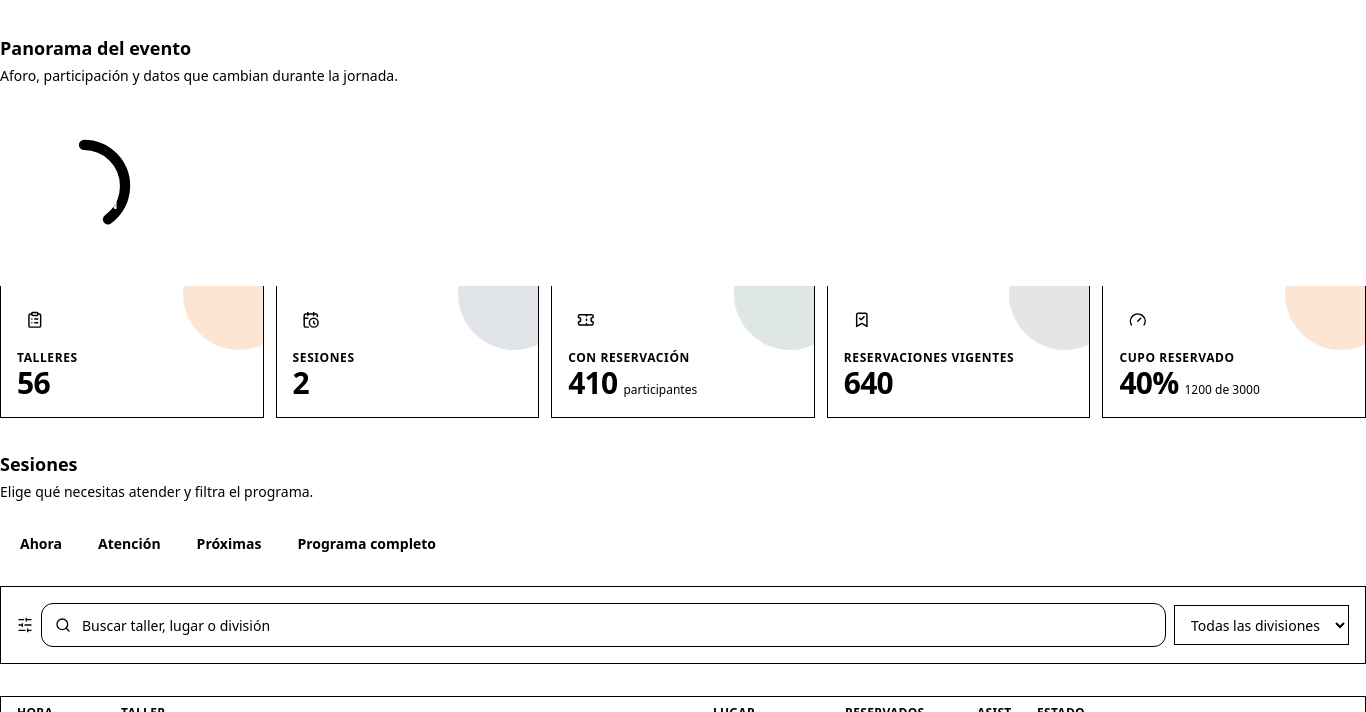
Scenario: search finds by workshop name, by location and by division, instantly and without accents
Type "molecular" into the search field labelled "Buscar taller, lugar o división". click: (604, 625)
box: [41, 603, 1166, 647]
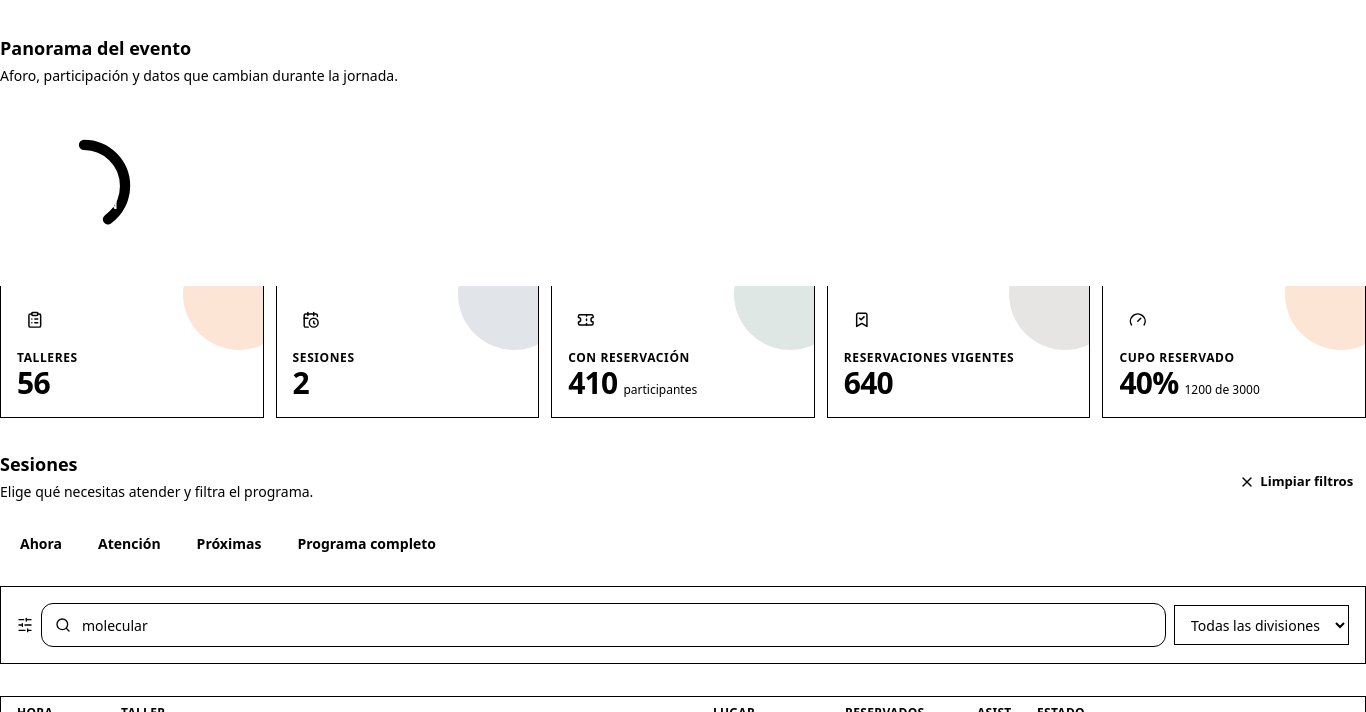
Replace the text in the search field named "Buscar taller, lugar o división" with "hub". click: (604, 625)
box: [41, 603, 1166, 647]
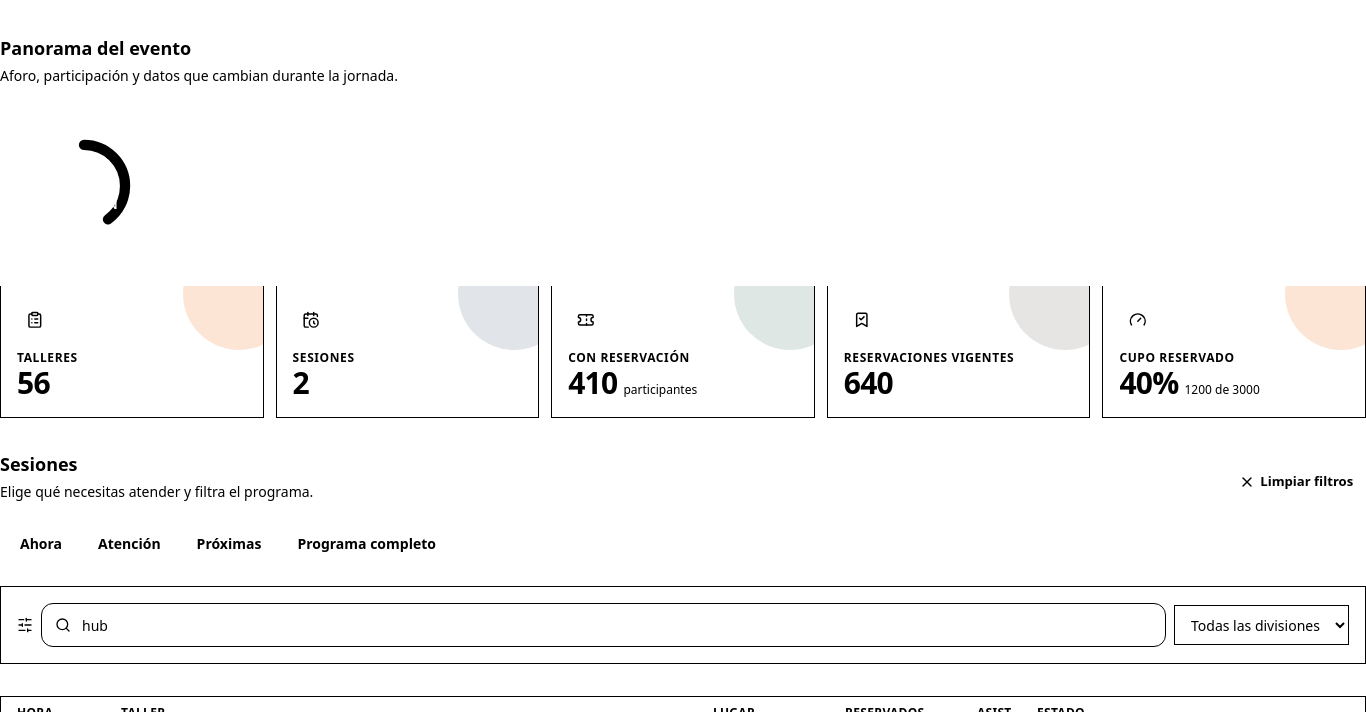
Replace the text in the search field named "Buscar taller, lugar o división" with "gastronomico". click: (604, 625)
box: [41, 603, 1166, 647]
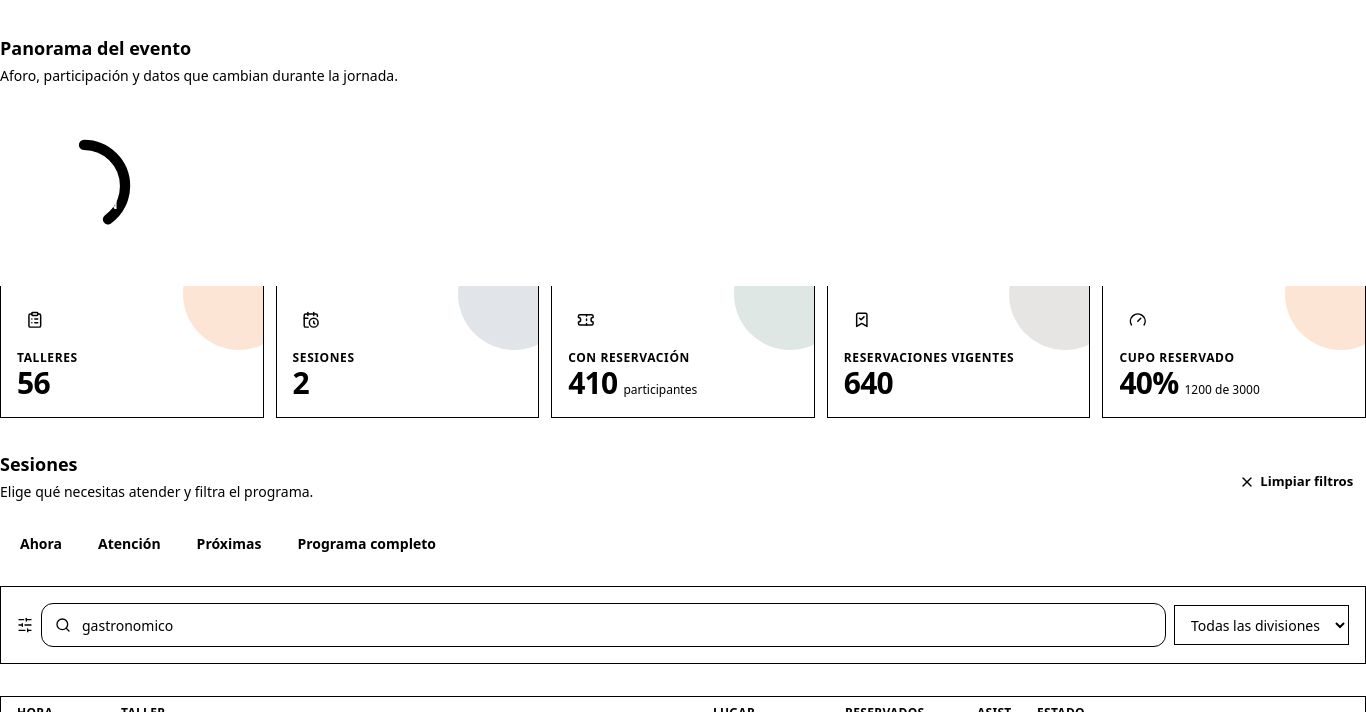
Replace the text in the search field named "Buscar taller, lugar o división" with "ingenieria". click: (604, 625)
box: [41, 603, 1166, 647]
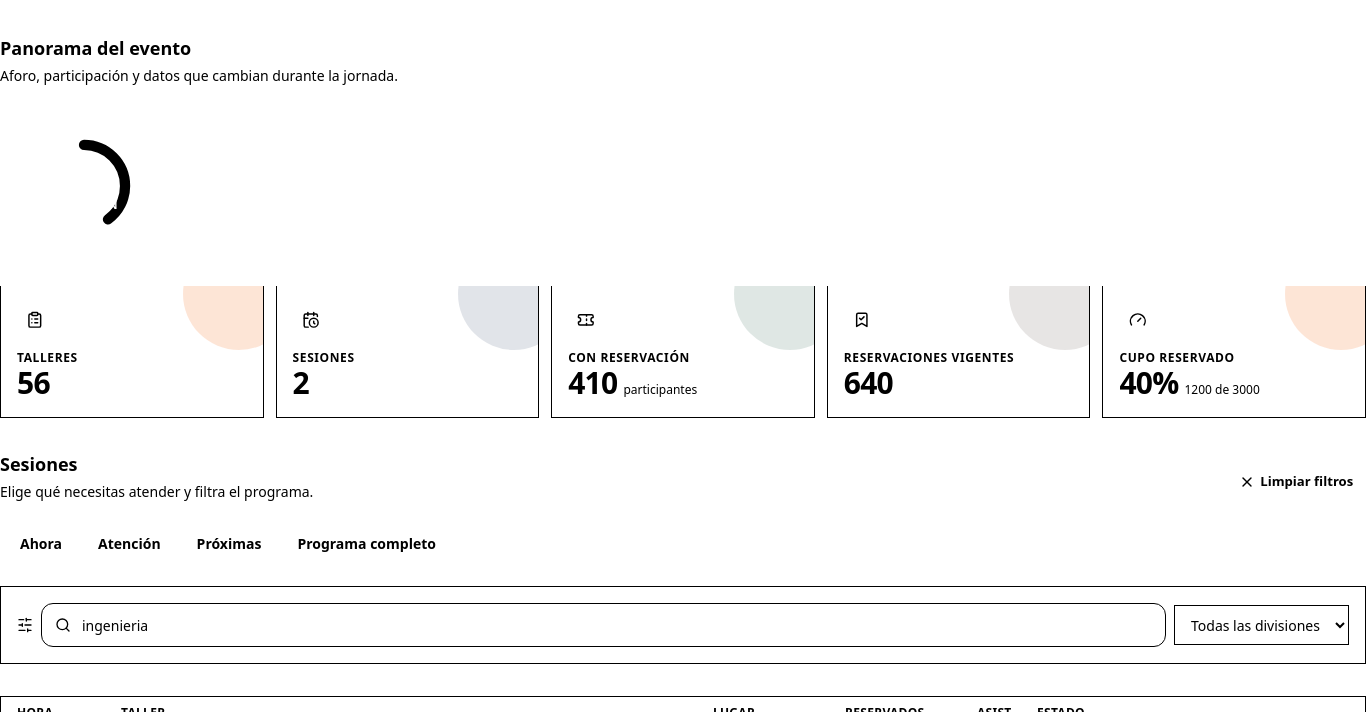
Replace the text in the search field named "Buscar taller, lugar o división" with "zzz". click: (604, 625)
box: [41, 603, 1166, 647]
(page scrolled)
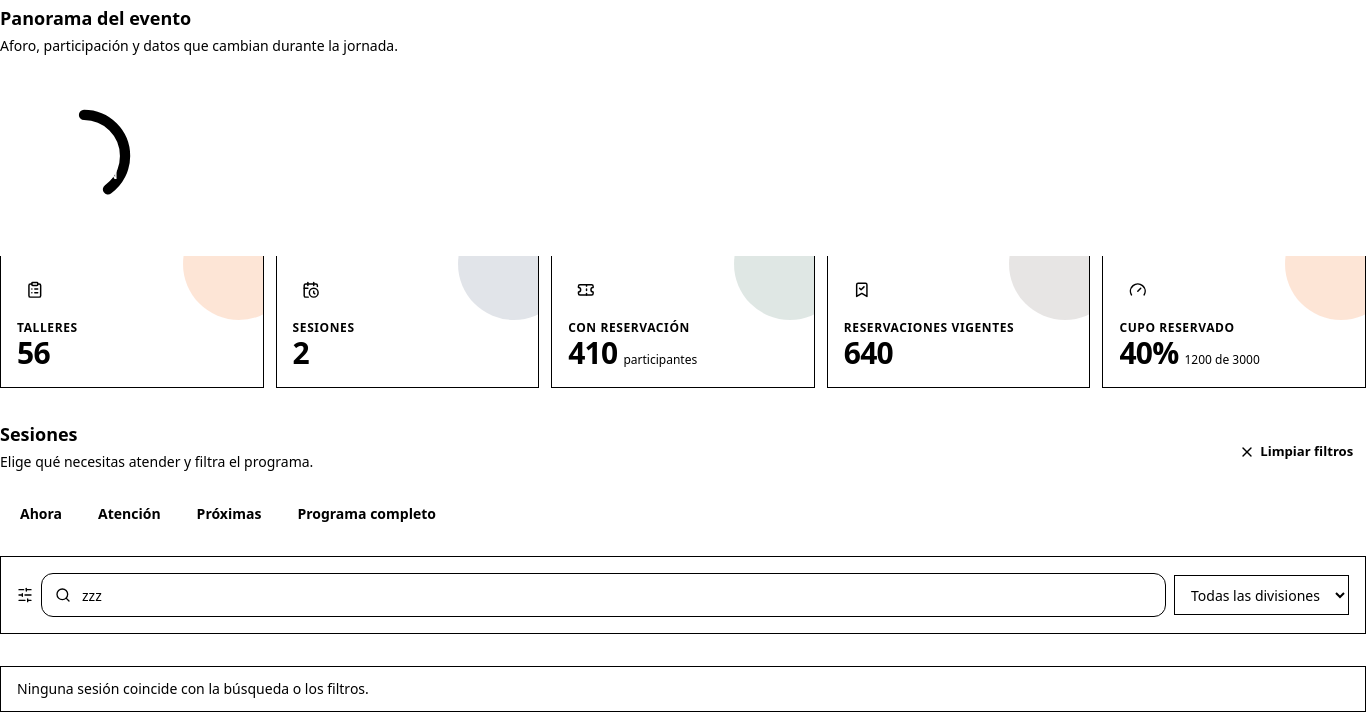
Check: the text "Ninguna sesión coincide con la búsqueda o los filtros." is shown, box [0, 666, 1365, 711]
